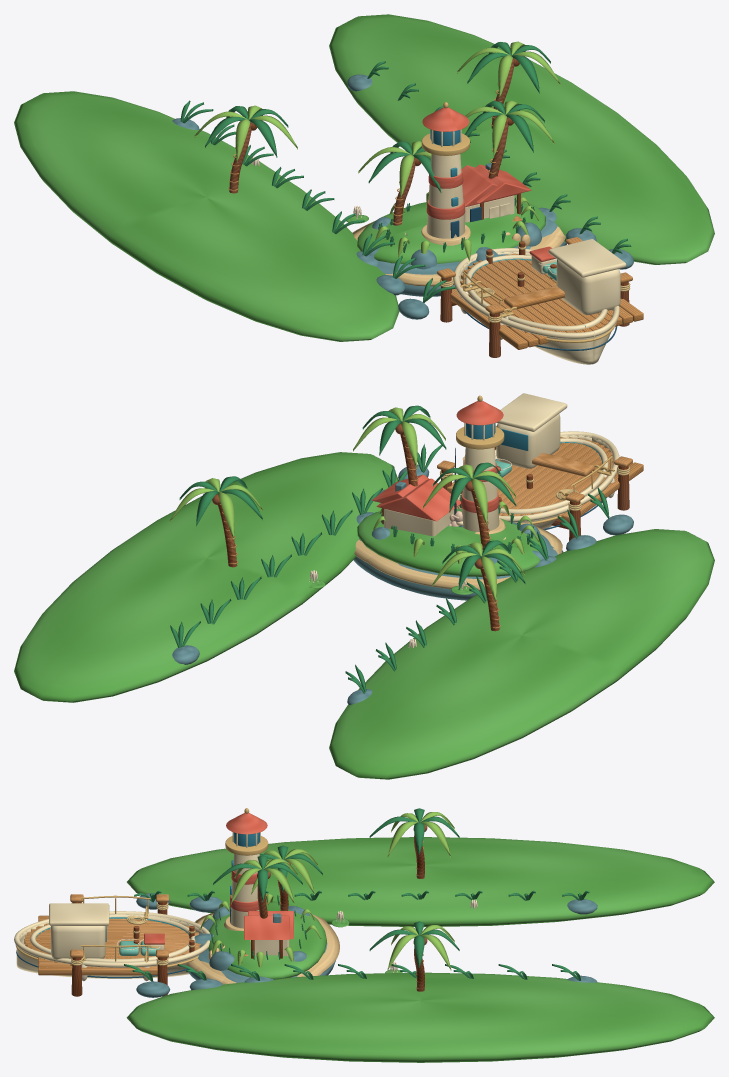
The model's file is harbour-kit.glb.
The picture shows the model from 3 angles, top to bottom: view 1: azimuth 30°, elevation 25°; view 2: azimuth 150°, elevation 25°; view 3: azimuth 270°, elevation 25°; orthographic projection. The views are drawn at different scales.
Parts seen in each view (by area): view 1: InletBanks_Sea_grass, Yacht_Warm_ivory_enamel, InletBanks_Palm_leaf_shadow, Grassy_crown.001, Skiff_Honey_oiled_timber, Island_Palm_leaf_light, InletBanks_Smooth_slate, Yacht_Honey_oiled_timber, Pier_Honey_oiled_timber, LighthouseIsland_Warm_ivory_enamel, InletBanks_Palm_leaf_light, LighthouseIsland_Coral_red_paint (+11 smaller); view 2: InletBanks_Sea_grass, InletBanks_Palm_leaf_shadow, Grassy_crown.001, Yacht_Warm_ivory_enamel, Skiff_Honey_oiled_timber, Island_Palm_leaf_light, Yacht_Honey_oiled_timber, InletBanks_Palm_leaf_light, Island_Palm_leaf_shadow, InletBanks_Smooth_slate, Keeper_roof, IslandCliff_SandLip (+10 smaller); view 3: InletBanks_Sea_grass, Yacht_Warm_ivory_enamel, InletBanks_Palm_leaf_shadow, Grassy_crown.001, Island_Palm_leaf_light, Yacht_Honey_oiled_timber, InletBanks_Smooth_slate, InletBanks_Palm_leaf_light, Pier_Honey_oiled_timber, Skiff_Honey_oiled_timber, Island_Palm_leaf_shadow, LighthouseIsland_Coral_red_paint (+11 smaller).
Part boxes in pixels (x1,y1,x2,y2): InletBanks_Sea_grass: (14, 14, 714, 341); Yacht_Warm_ivory_enamel: (453, 239, 626, 364); InletBanks_Palm_leaf_shadow: (180, 42, 631, 302); Grassy_crown.001: (357, 199, 545, 264); Skiff_Honey_oiled_timber: (473, 261, 598, 325); Island_Palm_leaf_light: (358, 100, 554, 261); InletBanks_Smooth_slate: (172, 74, 633, 319); Yacht_Honey_oiled_timber: (460, 254, 613, 332); Pier_Honey_oiled_timber: (437, 237, 643, 349); LighthouseIsland_Warm_ivory_enamel: (426, 129, 465, 238); InletBanks_Palm_leaf_light: (194, 41, 560, 162); LighthouseIsland_Coral_red_paint: (422, 107, 469, 219); InletBanks_Sea_grass: (14, 452, 714, 779); InletBanks_Palm_leaf_shadow: (170, 444, 609, 693); Grassy_crown.001: (357, 508, 542, 576); Yacht_Warm_ivory_enamel: (456, 393, 619, 528); Skiff_Honey_oiled_timber: (497, 443, 601, 509); Island_Palm_leaf_light: (353, 407, 539, 563); Yacht_Honey_oiled_timber: (461, 437, 615, 515); InletBanks_Palm_leaf_light: (169, 478, 525, 603); Island_Palm_leaf_shadow: (362, 405, 516, 512); InletBanks_Smooth_slate: (172, 464, 633, 704); Keeper_roof: (376, 478, 460, 521); IslandCliff_SandLip: (365, 507, 562, 591); InletBanks_Sea_grass: (126, 837, 714, 1062); Yacht_Warm_ivory_enamel: (14, 903, 209, 978); InletBanks_Palm_leaf_shadow: (124, 808, 589, 981); Grassy_crown.001: (208, 901, 326, 979); Island_Palm_leaf_light: (200, 849, 321, 967); Yacht_Honey_oiled_timber: (24, 918, 200, 965); InletBanks_Smooth_slate: (136, 893, 597, 997); InletBanks_Palm_leaf_light: (387, 812, 454, 970); Pier_Honey_oiled_timber: (38, 894, 168, 975); Skiff_Honey_oiled_timber: (40, 918, 186, 958); Island_Palm_leaf_shadow: (213, 845, 322, 901); LighthouseIsland_Coral_red_paint: (226, 812, 267, 911).
Size of the model in its own units: 19.4 by 6.24 by 26.2.
74 materials, 12 textured.
